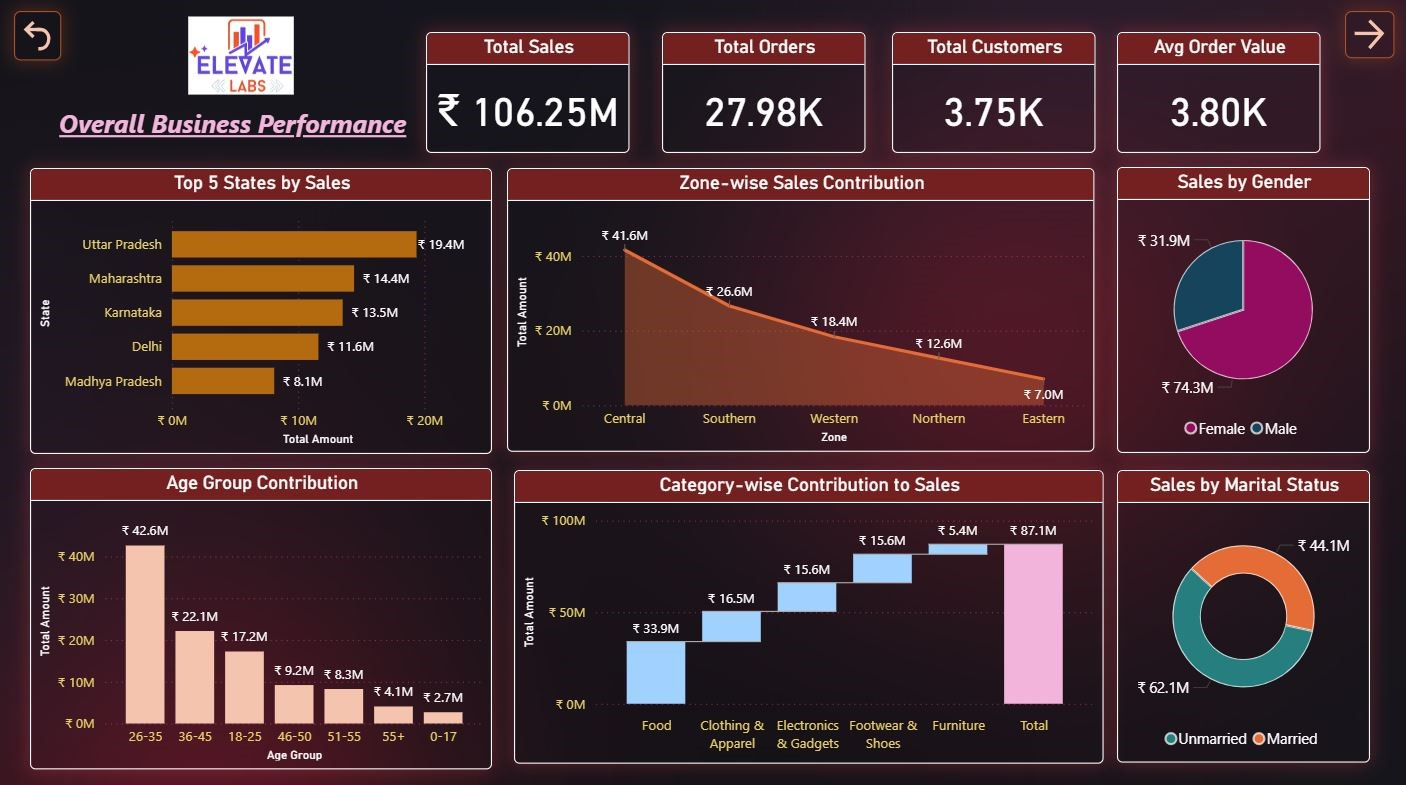

What the dashboard file says about the page in this screenshot:
{"tool":"powerbi","page":{"name":"Overall Business Performance","canvas":[1280,720],"ordinal":0},"visuals":[{"type":"card","title":"Total Sales","fields":{"Values":["Sum(Diwali Sales Data.Amount)"]},"box":[389.3,29.2,184.8,109.9],"z":0},{"type":"card","title":"Total Orders","fields":{"Values":["Sum(Diwali Sales Data.Orders)"]},"box":[603.3,29.2,184.8,109.9],"z":1000},{"type":"card","title":"Total Customers","fields":{"Values":["Count(Diwali Sales Data.User_ID)"]},"box":[812.4,29.2,184.8,109.9],"z":2000},{"type":"card","title":"Avg Order Value","fields":{"Values":["Diwali Sales Data.Avg Order Value"]},"box":[1017.7,29.2,184.8,109.9],"z":3000},{"type":"donutChart","title":"Sales by Marital Status","fields":{"Category":["Diwali Sales Data.Marital_Status"],"Y":["Sum(Diwali Sales Data.Amount)"]},"box":[1017.3,427.3,230,266.4],"z":4000},{"type":"pieChart","title":"Sales by Gender","fields":{"Category":["Diwali Sales Data.Gender"],"Y":["Sum(Diwali Sales Data.Amount)"]},"box":[1017.4,151.7,229.5,259.7],"z":5000},{"type":"columnChart","title":"Age Group Contribution","fields":{"Category":["Diwali Sales Data.Age Group"],"Y":["Sum(Diwali Sales Data.Amount)"]},"box":[29.2,425,420.2,274.3],"z":6000},{"type":"barChart","title":"Top 5 States by Sales","fields":{"Category":["Diwali Sales Data.State"],"Y":["Sum(Diwali Sales Data.Amount)"]},"box":[29,153,420,259.8],"z":7000},{"type":"waterfallChart","title":"Category-wise Contribution to Sales","fields":{"Category":["Diwali Sales Data.Product_Category"],"Y":["Sum(Diwali Sales Data.Amount)"]},"box":[468.8,427,535.9,266.5],"z":8000},{"type":"areaChart","title":"Zone-wise Sales Contribution","fields":{"Category":["Diwali Sales Data.Zone"],"Y":["Sum(Diwali Sales Data.Amount)"]},"box":[463,152.7,534,257.8],"z":9000},{"type":"actionButton","box":[14.5,10,42.5,45.3],"z":10000},{"type":"actionButton","box":[1224.8,10,45.3,42.5],"z":11000},{"type":"actionButton","box":[43.5,91.4,339.5,39.8],"z":12000},{"type":"image","box":[151.2,10,139.4,81.5],"z":13000}]}

Visuals, with their boxes in screenshot pixels (x1, y1, x2, y2), scaled from the page's 1280x720 canvas onto the 1406x785 screenshot:
"Total Sales" card: [428, 32, 631, 152]
"Total Orders" card: [663, 32, 866, 152]
"Total Customers" card: [892, 32, 1095, 152]
"Avg Order Value" card: [1118, 32, 1321, 152]
"Sales by Marital Status" donutChart: [1117, 466, 1370, 756]
"Sales by Gender" pieChart: [1118, 165, 1370, 449]
"Age Group Contribution" columnChart: [32, 463, 494, 762]
"Top 5 States by Sales" barChart: [32, 167, 493, 450]
"Category-wise Contribution to Sales" waterfallChart: [515, 466, 1104, 756]
"Zone-wise Sales Contribution" areaChart: [509, 166, 1095, 448]
actionButton: [16, 11, 63, 60]
actionButton: [1345, 11, 1395, 57]
actionButton: [48, 100, 421, 143]
image: [166, 11, 319, 100]
